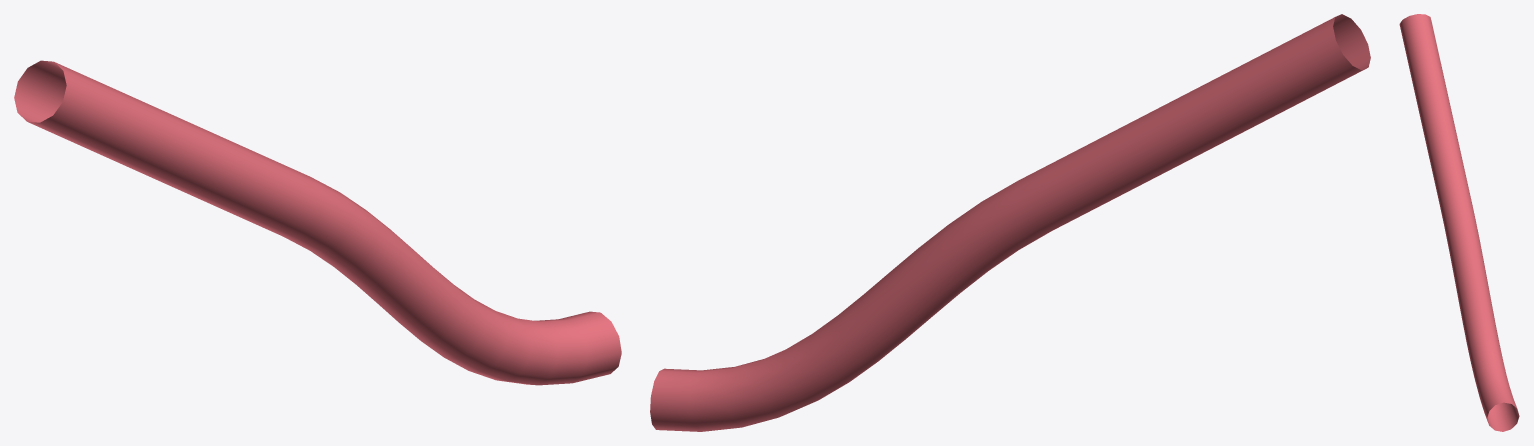
3 renders of one model, left to right at view 1: azimuth 30°, elevation 25°; view 2: azimuth 150°, elevation 25°; view 3: azimuth 270°, elevation 25°, orthographic. The views are drawn at different scales.
Parts seen in each view (by area): view 1: ZA_98ea85aa14208bfb; view 2: ZA_98ea85aa14208bfb; view 3: ZA_98ea85aa14208bfb.
Part boxes in pixels (x1,y1,x2,y2): ZA_98ea85aa14208bfb: [14, 60, 621, 385]; ZA_98ea85aa14208bfb: [650, 14, 1370, 431]; ZA_98ea85aa14208bfb: [1399, 14, 1519, 431].
Bounding box in the file's own units: 0.00822 × 0.00619 × 0.00255.
